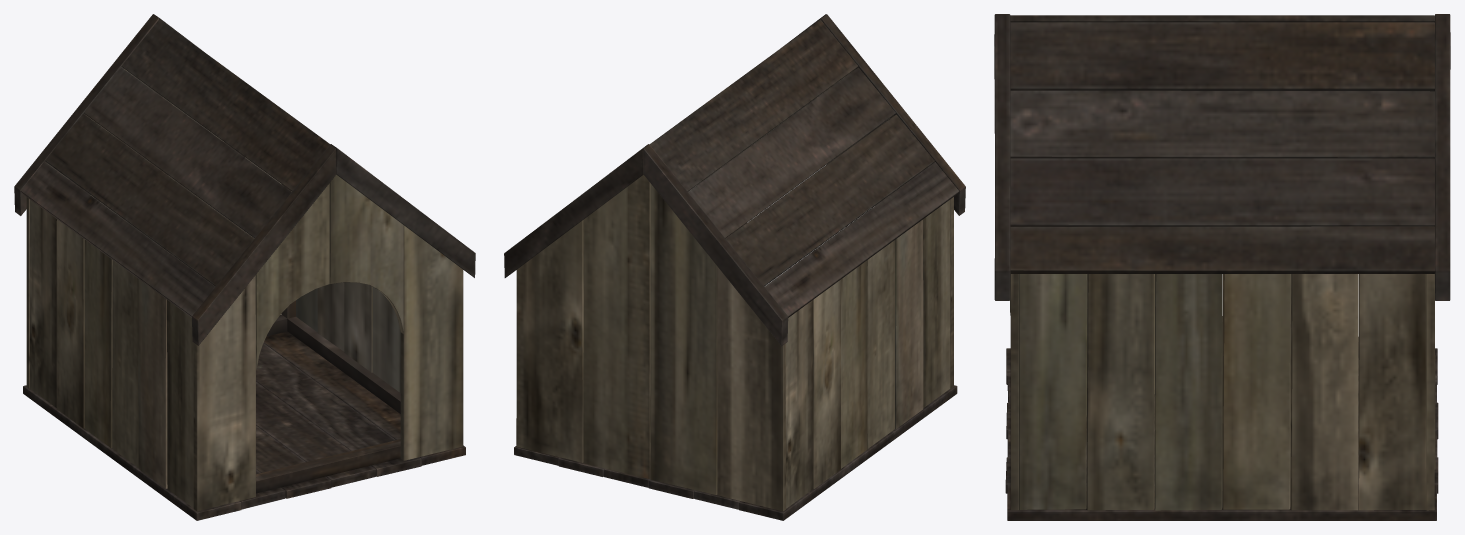
Rendered from dog-house-free-fc9e38.glb.
3 renders of one model, left to right at view 1: azimuth 30°, elevation 25°; view 2: azimuth 150°, elevation 25°; view 3: azimuth 270°, elevation 25°, orthographic. The views are drawn at different scales.
Parts seen in each view (by area): view 1: PropMesh; view 2: PropMesh; view 3: PropMesh.
Part boxes in pixels (x1,y1,x2,y2): PropMesh: [14, 14, 475, 520]; PropMesh: [504, 14, 965, 520]; PropMesh: [994, 14, 1450, 520].
Bounding box in the file's own units: 0.7634 × 0.9 × 0.8745.
1 material, 1 textured.
